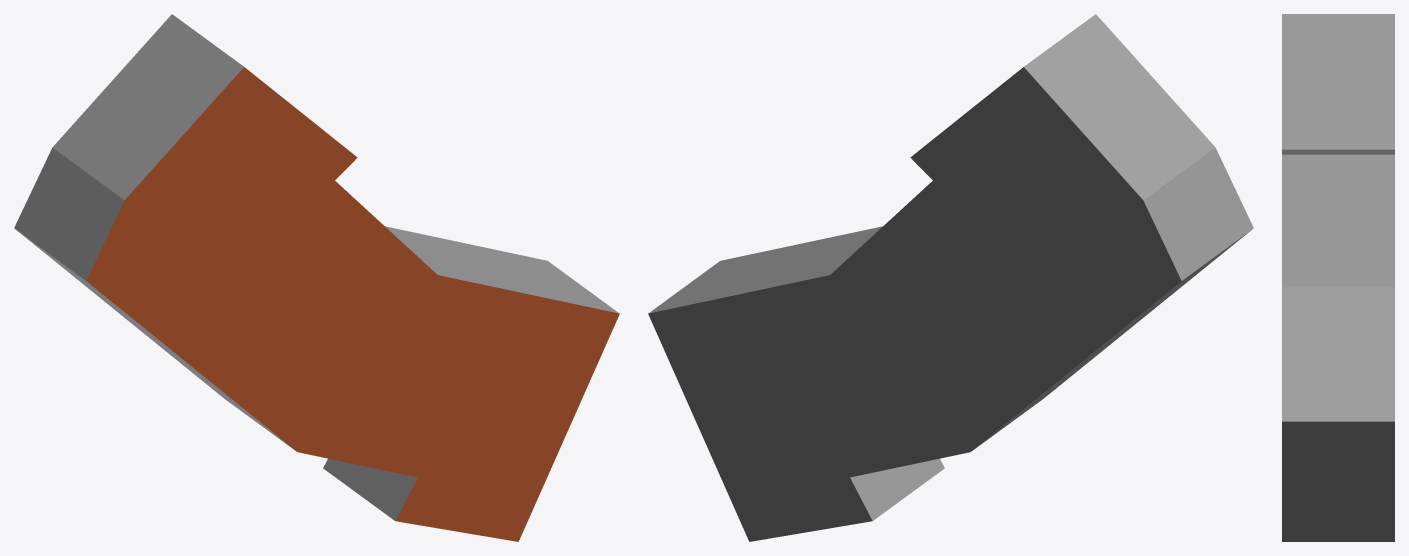
Rendered from construction_1156_assumed_A_Casa_h6m.obj.
The picture shows the model from 3 angles, left to right: view 1: azimuth 30°, elevation 25°; view 2: azimuth 150°, elevation 25°; view 3: azimuth 270°, elevation 25°; orthographic projection. The views are drawn at different scales.
Parts seen in each view (by area): view 1: construction_1156_assumed_A_Casa; view 2: construction_1156_assumed_A_Casa; view 3: construction_1156_assumed_A_Casa.
Part boxes in pixels (x1,y1,x2,y2): construction_1156_assumed_A_Casa: (14, 14, 619, 541); construction_1156_assumed_A_Casa: (648, 14, 1253, 541); construction_1156_assumed_A_Casa: (1282, 14, 1394, 541).
Size of the model in its own units: 25.59 by 24.83 by 6.
